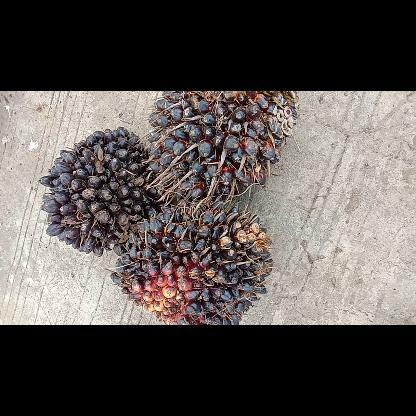TBS mentah: (109, 206, 275, 324), (144, 90, 298, 206), (37, 124, 165, 258)
